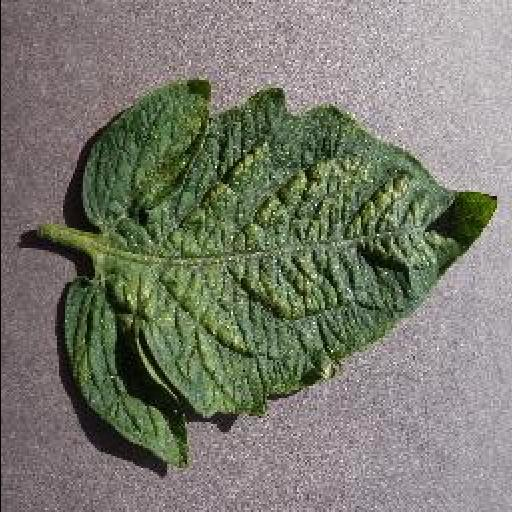disease_tomato: (60, 80, 498, 466)
